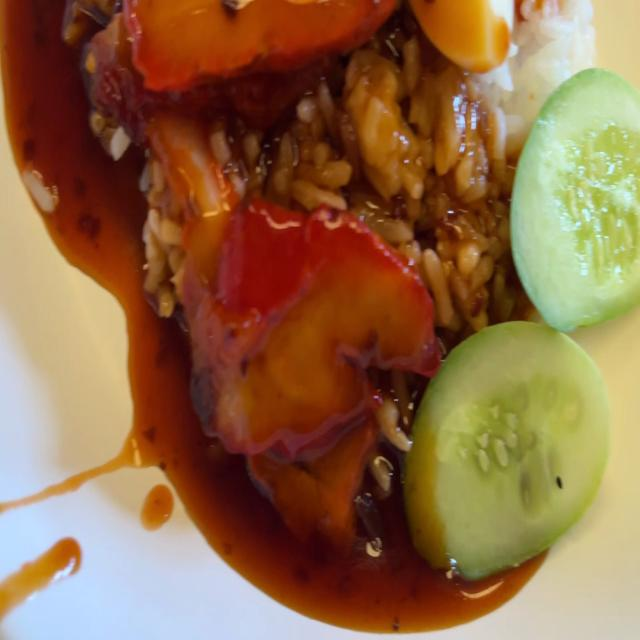red_pork_and_crispy_pork: (414, 0, 514, 74)
